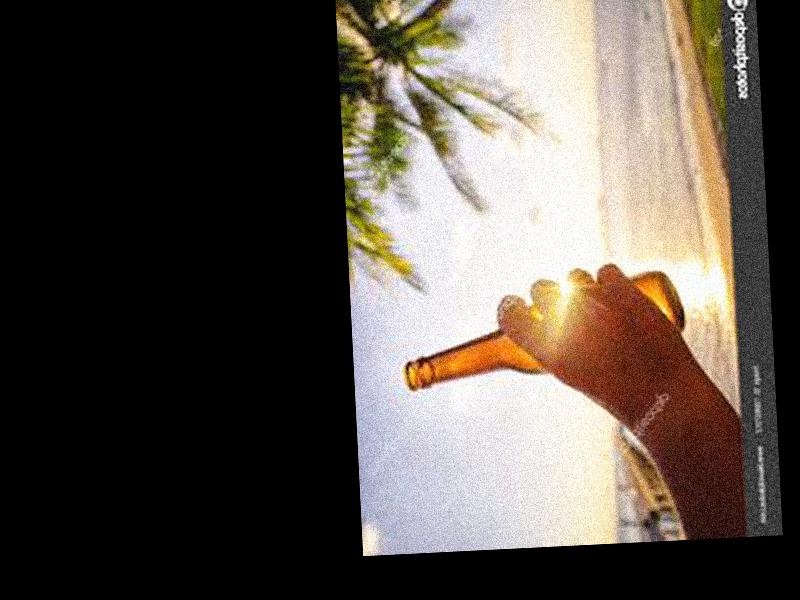Beer: (400, 271, 689, 394)
